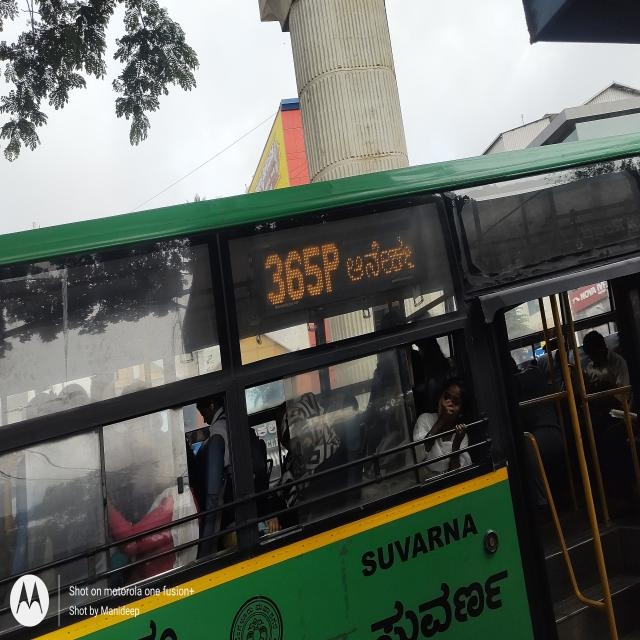bus: (5, 118, 640, 640)
display: (236, 225, 443, 311)
dnumber: (258, 243, 345, 310)
